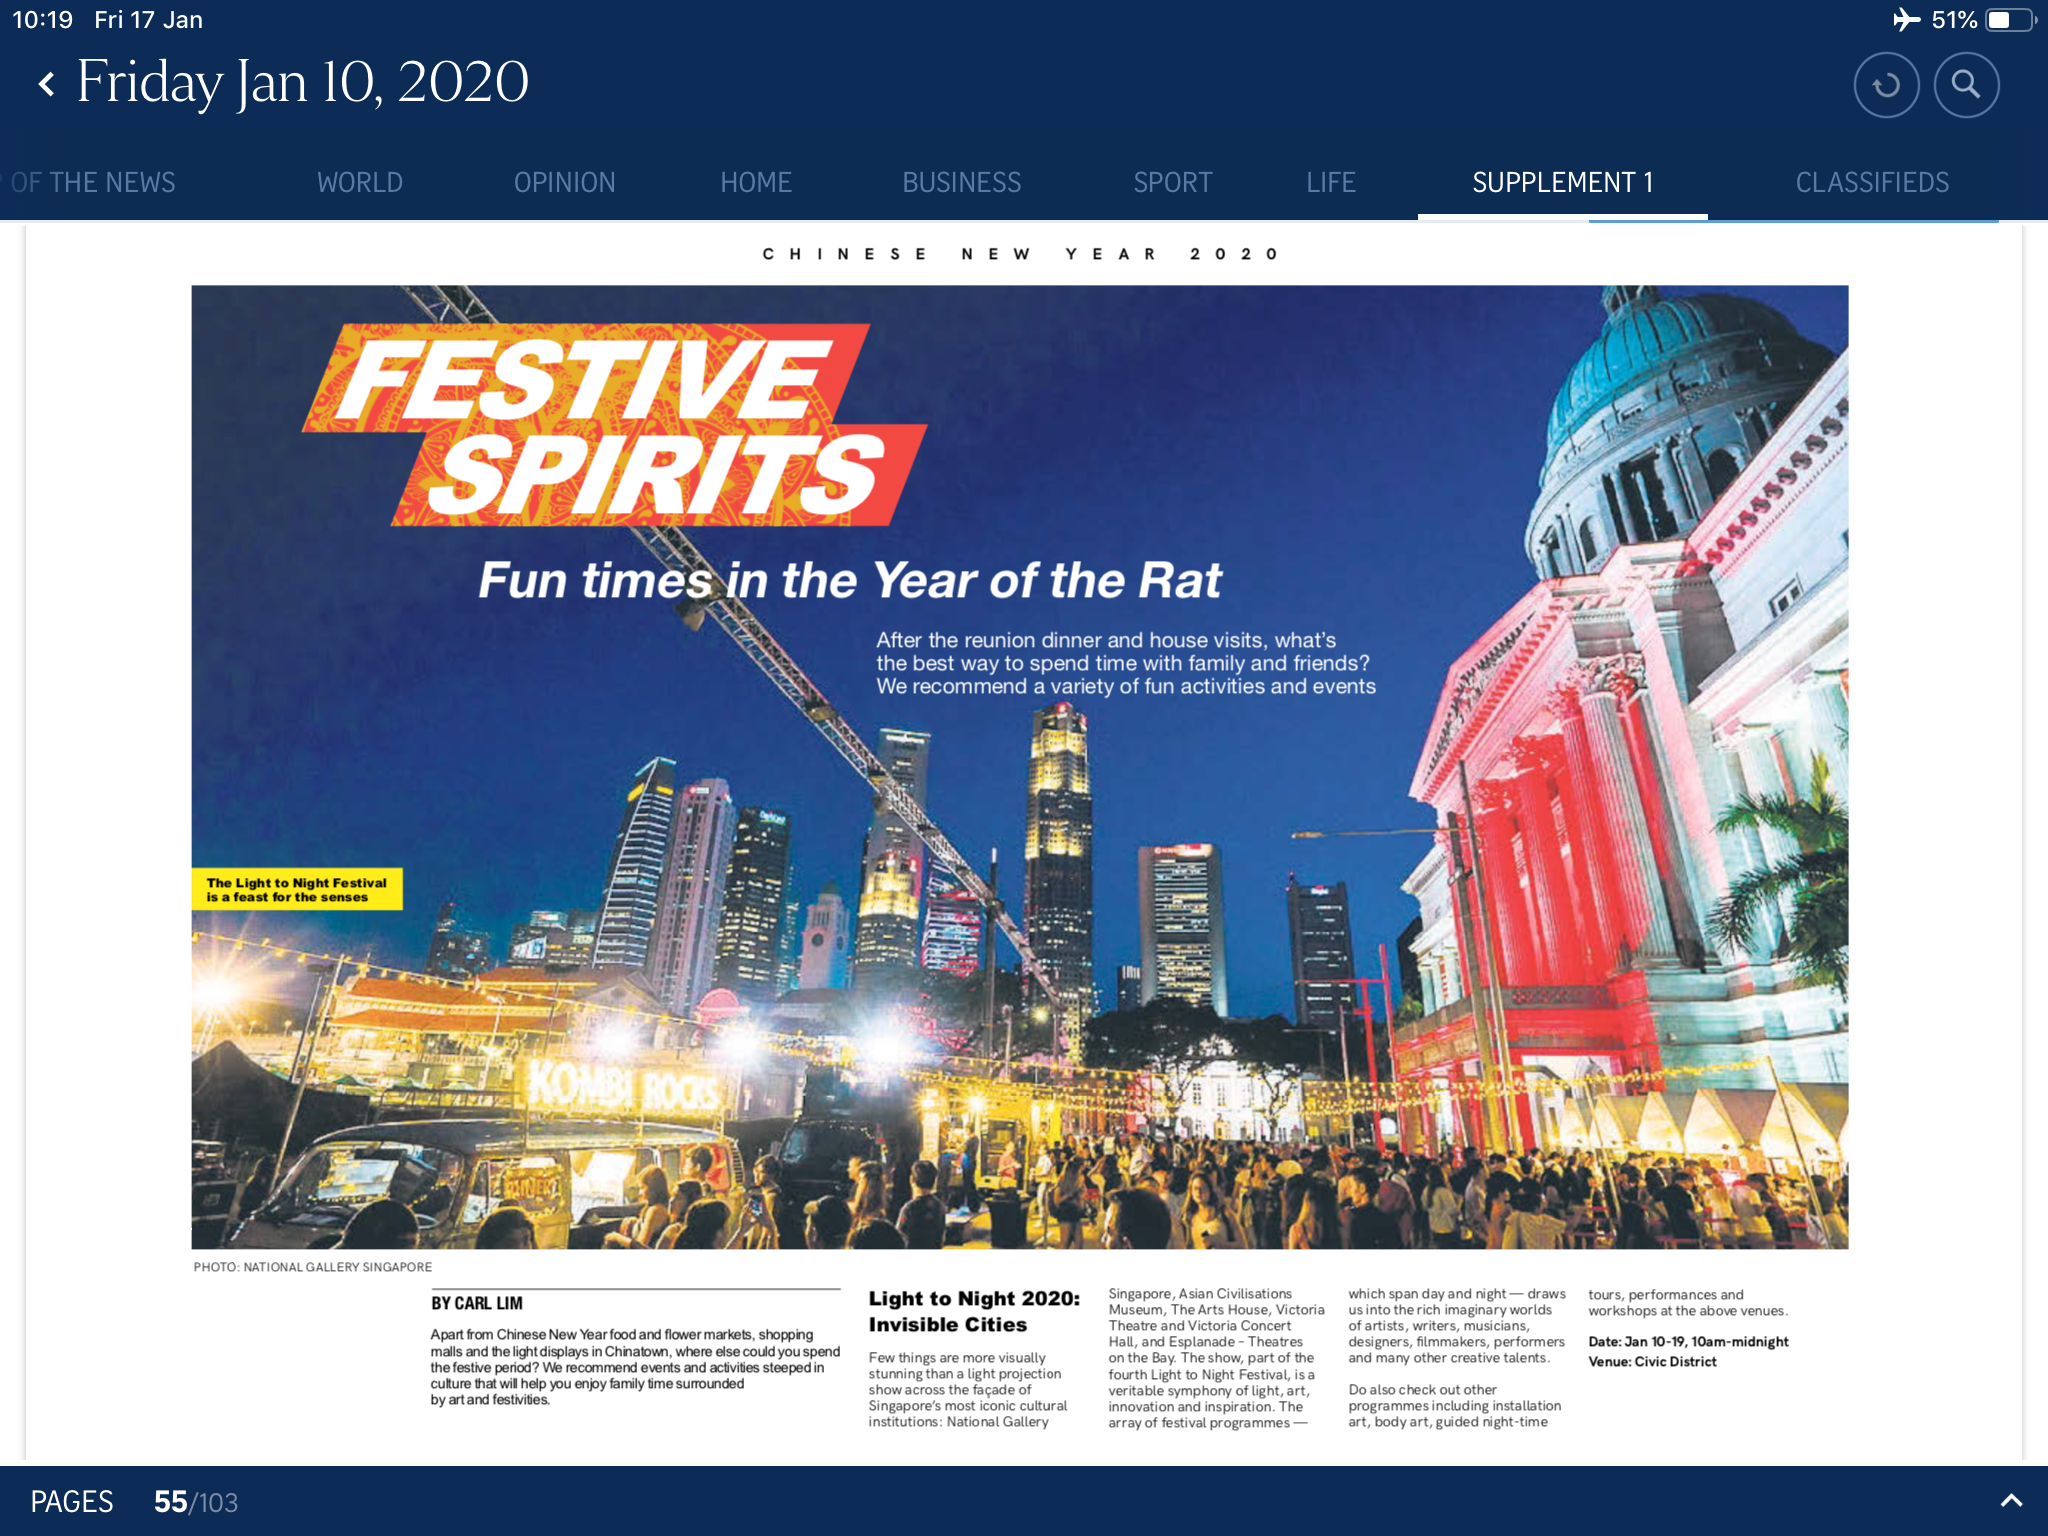Byline: (432, 1296, 526, 1312)
Headline: (868, 1289, 1082, 1336)
Illustration: (192, 1258, 435, 1275)
Image: (192, 286, 1848, 1250)
Text: (431, 1326, 843, 1407), (1108, 1288, 1327, 1430), (1348, 1289, 1569, 1430), (869, 1350, 1068, 1430), (1588, 1336, 1792, 1368), (1587, 1289, 1796, 1320)
